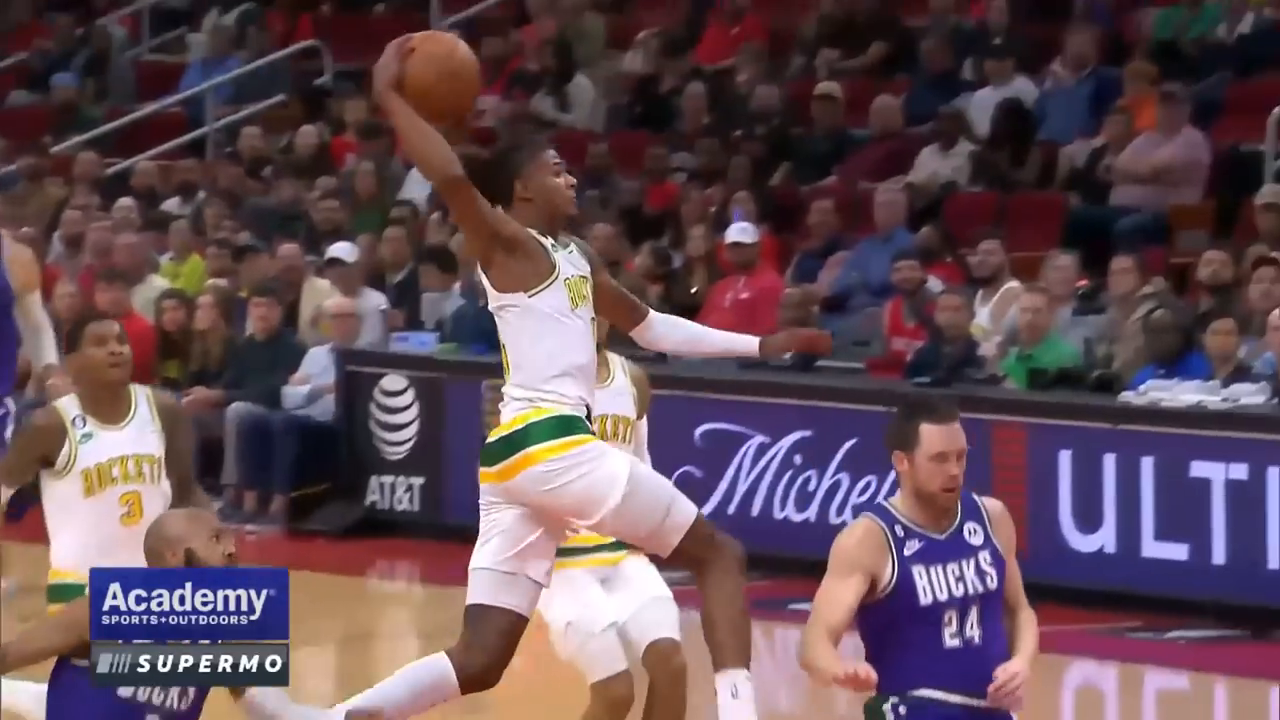ball: (370, 20, 492, 134)
